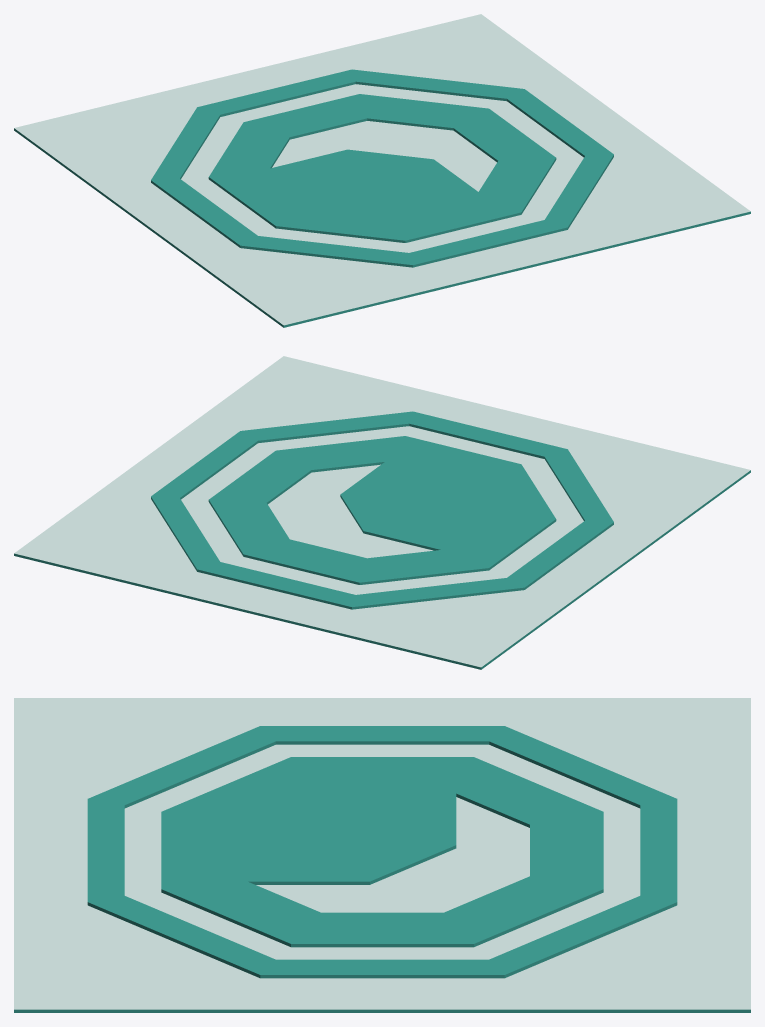
Rendered from Prop_Rug_Moon.fbx.
3 views of the same model, one above another, from view 1: azimuth 30°, elevation 25°; view 2: azimuth 150°, elevation 25°; view 3: azimuth 270°, elevation 25° (orthographic). The views are drawn at different scales.
Visible parts, largest first — view 1: object1; view 2: object1; view 3: object1.
Part boxes in pixels (x1,y1,x2,y2): object1: [14, 14, 750, 327]; object1: [14, 356, 750, 669]; object1: [14, 698, 750, 1012].
Size of the model in its own units: 1 by 0.01 by 1.
